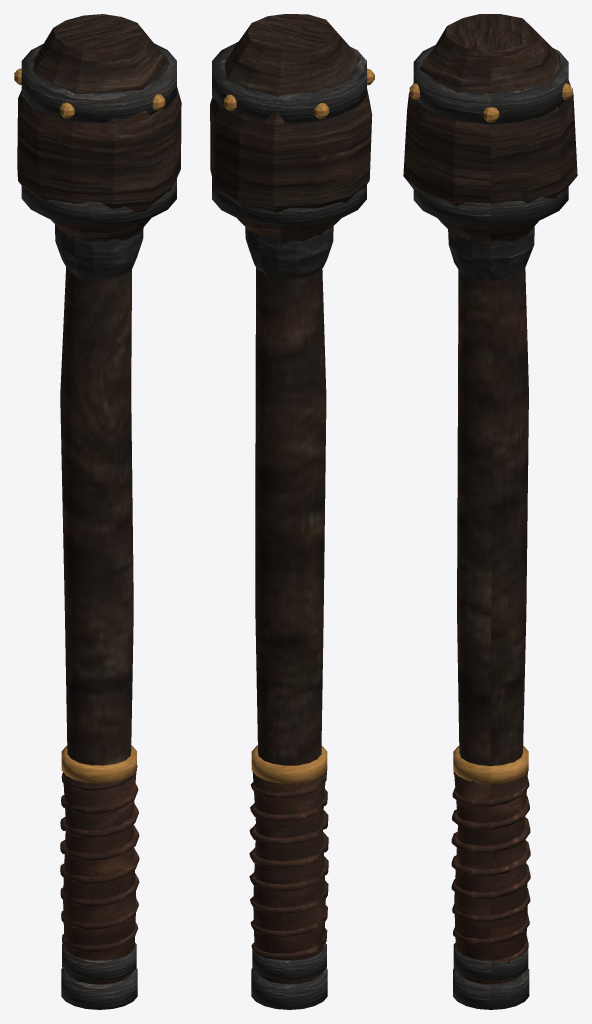
Rendered from pilgrim_cudgel.glb.
3 renders of one model, left to right at view 1: azimuth 30°, elevation 25°; view 2: azimuth 150°, elevation 25°; view 3: azimuth 270°, elevation 25°, orthographic.
Visible parts, largest first — view 1: Straight palm shaft and tapered ironwood.003, Adzed olivewood cudgel head, Bound palm grip.009, Forged reinforcement band.001, Continuous bound leather seam.009, Swaged head socket.003, Forged reinforcement band, Socketed pommel ferrule.003, Grip rear ferrule.009, Grip forward ferrule.009; view 2: Straight palm shaft and tapered ironwood.003, Adzed olivewood cudgel head, Bound palm grip.009, Continuous bound leather seam.009, Forged reinforcement band.001, Swaged head socket.003, Forged reinforcement band, Socketed pommel ferrule.003, Grip forward ferrule.009, Grip rear ferrule.009; view 3: Straight palm shaft and tapered ironwood.003, Adzed olivewood cudgel head, Bound palm grip.009, Forged reinforcement band.001, Continuous bound leather seam.009, Forged reinforcement band, Swaged head socket.003, Socketed pommel ferrule.003, Grip forward ferrule.009, Grip rear ferrule.009.
Boxes of the visible parts, bbox=[...] form: Straight palm shaft and tapered ironwood.003: bbox=[60, 267, 133, 984]; Adzed olivewood cudgel head: bbox=[17, 14, 181, 242]; Bound palm grip.009: bbox=[63, 772, 136, 960]; Forged reinforcement band.001: bbox=[21, 43, 176, 122]; Continuous bound leather seam.009: bbox=[60, 765, 139, 952]; Swaged head socket.003: bbox=[55, 224, 143, 279]; Forged reinforcement band: bbox=[21, 179, 176, 226]; Socketed pommel ferrule.003: bbox=[61, 968, 137, 1009]; Grip rear ferrule.009: bbox=[62, 942, 136, 980]; Grip forward ferrule.009: bbox=[61, 745, 136, 783]; Straight palm shaft and tapered ironwood.003: bbox=[255, 268, 326, 984]; Adzed olivewood cudgel head: bbox=[210, 14, 372, 243]; Bound palm grip.009: bbox=[252, 772, 325, 960]; Continuous bound leather seam.009: bbox=[249, 771, 328, 960]; Forged reinforcement band.001: bbox=[212, 42, 366, 123]; Swaged head socket.003: bbox=[245, 226, 333, 278]; Forged reinforcement band: bbox=[212, 176, 366, 226]; Socketed pommel ferrule.003: bbox=[251, 968, 327, 1009]; Grip forward ferrule.009: bbox=[251, 745, 327, 783]; Grip rear ferrule.009: bbox=[252, 943, 326, 980]; Straight palm shaft and tapered ironwood.003: bbox=[457, 268, 528, 984]; Adzed olivewood cudgel head: bbox=[403, 14, 577, 241]; Bound palm grip.009: bbox=[454, 772, 527, 960]; Forged reinforcement band.001: bbox=[413, 45, 568, 124]; Continuous bound leather seam.009: bbox=[451, 771, 530, 965]; Forged reinforcement band: bbox=[413, 187, 568, 227]; Swaged head socket.003: bbox=[448, 226, 534, 280]; Socketed pommel ferrule.003: bbox=[453, 968, 529, 1009]; Grip forward ferrule.009: bbox=[453, 746, 528, 783]; Grip rear ferrule.009: bbox=[453, 943, 528, 980].
Bounding box in the file's own units: 0.1589 × 0.998 × 0.1637.
Materials: 4 (4 with a texture image).
